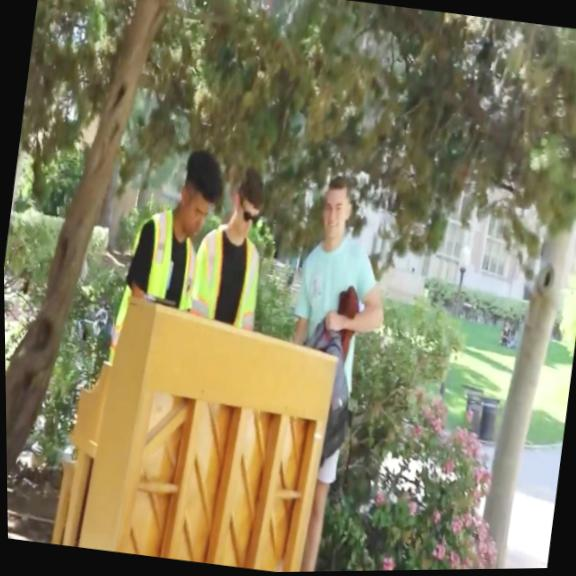safety_vest: (107, 203, 205, 374), (187, 221, 267, 332)
